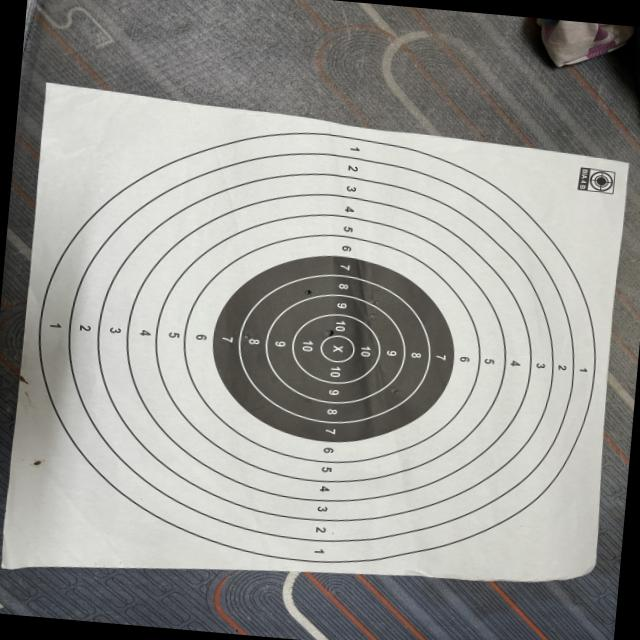bullet: (367, 312, 378, 320), (327, 329, 335, 337), (34, 460, 42, 468), (369, 297, 376, 304), (390, 387, 398, 393), (243, 333, 250, 339), (306, 287, 311, 295)
target: (1, 84, 628, 581)
